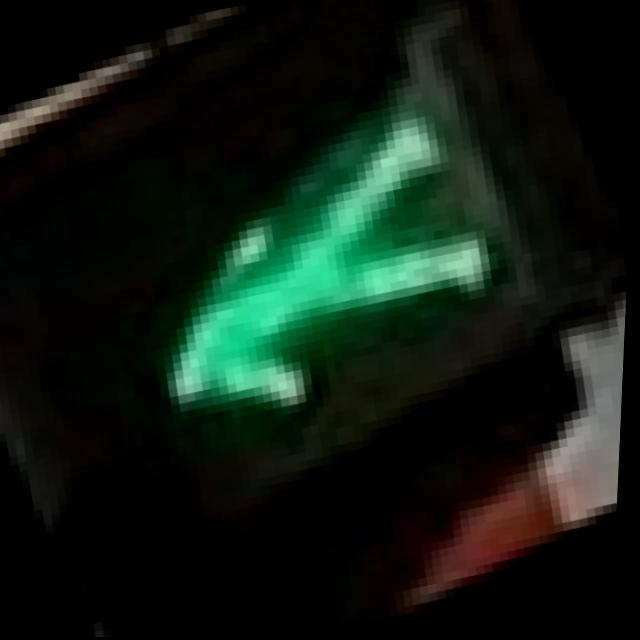green_light: (6, 72, 590, 578)
